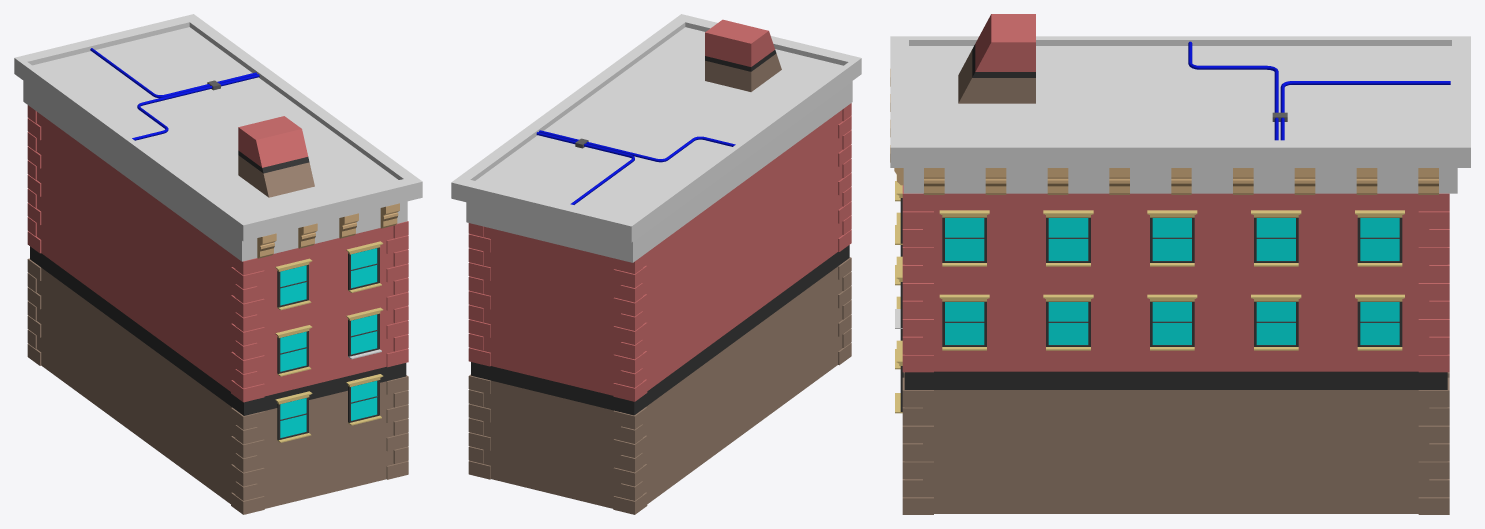
The model's file is building_03.fbx.
3 renders of one model, left to right at view 1: azimuth 30°, elevation 25°; view 2: azimuth 150°, elevation 25°; view 3: azimuth 270°, elevation 25°, orthographic. The views are drawn at different scales.
Parts seen in each view (by area): view 1: Cube.163; view 2: Cube.163; view 3: Cube.163.
Part boxes in pixels (left/top/right/bottom): Cube.163: left=14, top=14, right=422, bottom=514; Cube.163: left=451, top=14, right=861, bottom=514; Cube.163: left=890, top=14, right=1470, bottom=514.
Bounding box in the file's own units: 1148 × 2060 × 2534.
